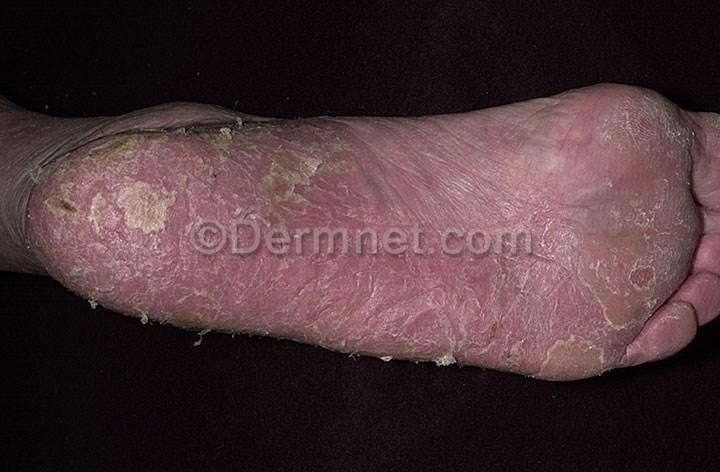Eczema: (45, 144, 330, 345), (557, 241, 663, 390)
